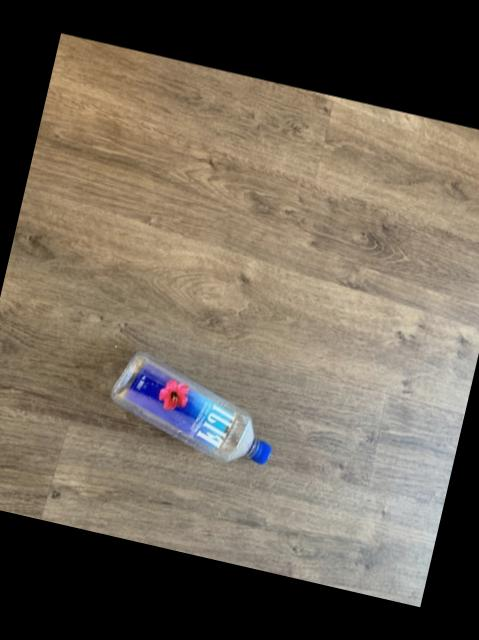plastic: (111, 353, 270, 465)
